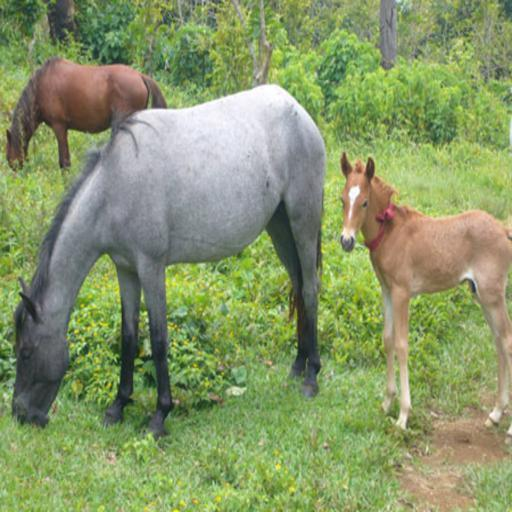Horse: (8, 79, 330, 442), (334, 145, 511, 432), (4, 53, 162, 191)
